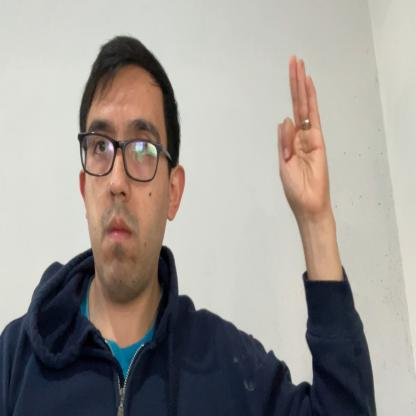F: (277, 55, 328, 218)
